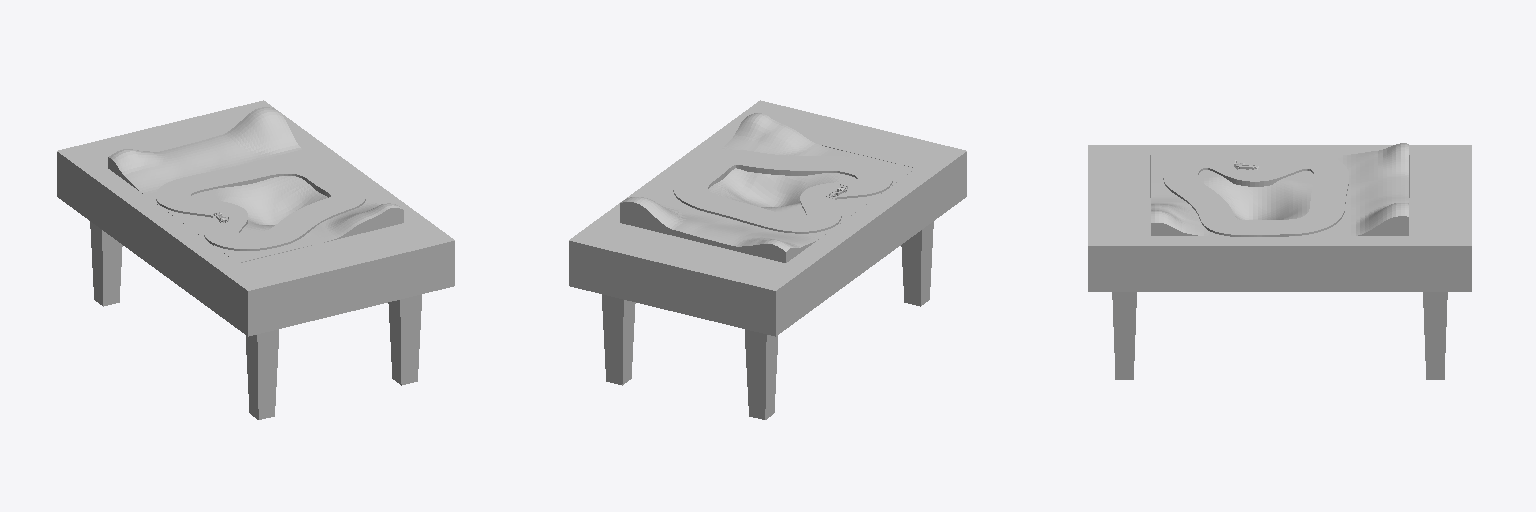
File: NewestTisch74.obj
3 views of the same model, side by side, from view 1: azimuth 30°, elevation 25°; view 2: azimuth 150°, elevation 25°; view 3: azimuth 270°, elevation 25° (orthographic).
Visible parts, largest first — view 1: Tischplatte_wood_table_001, Landschaft_aerial_grass_rock, off, Bein1_wood_table_001, Bein4_wood_table_001.003, Bein3_wood_table_001.002; view 2: Tischplatte_wood_table_001, Landschaft_aerial_grass_rock, off, Bein2_wood_table_001.001, Bein3_wood_table_001.002, Bein4_wood_table_001.003; view 3: Tischplatte_wood_table_001, Landschaft_aerial_grass_rock, off, Bein1_wood_table_001, Bein2_wood_table_001.001.
Boxes of the visible parts, x1=… form: Tischplatte_wood_table_001: x1=57, y1=100, x2=454, y2=336; Landschaft_aerial_grass_rock: x1=108, y1=107, x2=403, y2=262; off: x1=156, y1=159, x2=365, y2=250; Bein1_wood_table_001: x1=388, y1=294, x2=421, y2=385; Bein4_wood_table_001.003: x1=246, y1=329, x2=278, y2=419; Bein3_wood_table_001.002: x1=90, y1=221, x2=122, y2=306; Tischplatte_wood_table_001: x1=569, y1=100, x2=966, y2=336; Landschaft_aerial_grass_rock: x1=620, y1=113, x2=915, y2=262; off: x1=673, y1=150, x2=892, y2=233; Bein2_wood_table_001.001: x1=602, y1=294, x2=635, y2=385; Bein3_wood_table_001.002: x1=745, y1=329, x2=777, y2=419; Bein4_wood_table_001.003: x1=901, y1=221, x2=933, y2=306; Tischplatte_wood_table_001: x1=1088, y1=145, x2=1471, y2=291; Landschaft_aerial_grass_rock: x1=1151, y1=143, x2=1408, y2=235; off: x1=1163, y1=153, x2=1348, y2=236; Bein1_wood_table_001: x1=1112, y1=292, x2=1136, y2=379; Bein2_wood_table_001.001: x1=1423, y1=292, x2=1447, y2=379.
Size of the model in its own units: 5 by 3.91 by 8.